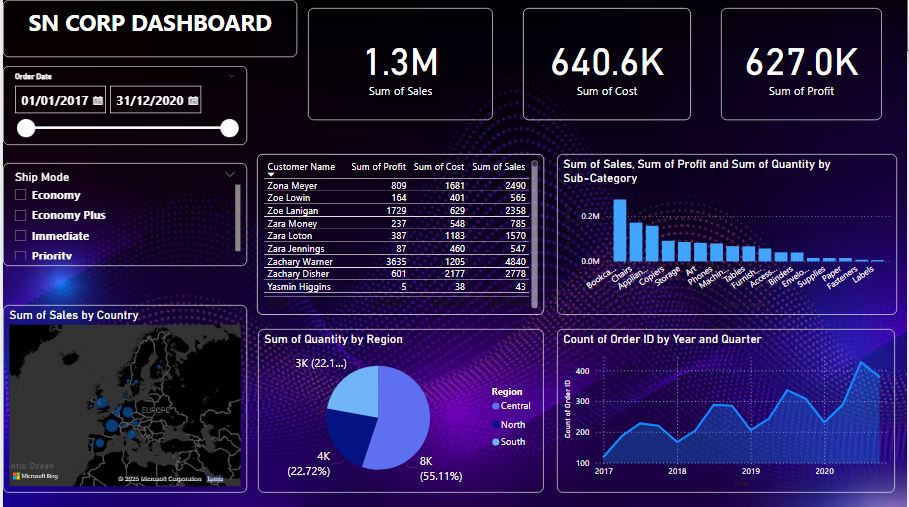

What the dashboard file says about the page in this screenshot:
{"tool":"powerbi","page":{"name":"Page 1","canvas":[1280,720],"ordinal":0},"visuals":[{"type":"card","fields":{"Values":["List of Orders.Sales"]},"box":[432.3,11.3,262.2,158.7],"z":0},{"type":"card","fields":{"Values":["List of Orders.Cost"]},"box":[737,11.3,238.1,158.7],"z":1000},{"type":"card","fields":{"Values":["List of Orders.Profit"]},"box":[1017.6,11.3,228.2,158.7],"z":2000},{"type":"tableEx","fields":{"Values":["List of Orders.Customer Name","List of Orders.Profit","List of Orders.Cost","List of Orders.Sales"]},"box":[360,218.3,406.8,228.2],"z":3000},{"type":"clusteredColumnChart","fields":{"Category":["List of Orders.Sub-Category"],"Y":["List of Orders.Sales"]},"box":[785.2,218.3,481.9,228.2],"z":4000},{"type":"lineChart","fields":{"Y":["List of Orders.Order ID"],"Category":["List of Orders.Order Date.Variation.Date Hierarchy.Year","List of Orders.Order Date.Variation.Date Hierarchy.Quarter"]},"box":[785.2,466.3,479.1,232.4],"z":5000},{"type":"pieChart","fields":{"Y":["List of Orders.Quantity"],"Category":["List of Orders.Region"]},"box":[361.4,466.3,405.4,232.4],"z":6000},{"type":"map","fields":{"Category":["List of Orders.Country"],"Size":["List of Orders.Sales"]},"box":[0,432.3,345.8,266.5],"z":7000},{"type":"textbox","box":[0,0,416.7,80.8],"z":8000},{"type":"slicer","fields":{"Values":["List of Orders.Ship Mode"]},"box":[0,231,345.8,146],"z":9000},{"type":"slicer","fields":{"Values":["List of Orders.Order Date"]},"box":[0,93.5,345.8,112],"z":10000}]}

Visuals, with their boxes in screenshot pixels (x1, y1, x2, y2), scaled from the page's 1280x720 canvas onto the 909x507 screenshot:
card - List of Orders.Sales: locate(307, 8, 493, 120)
card - List of Orders.Cost: locate(523, 8, 692, 120)
card - List of Orders.Profit: locate(723, 8, 885, 120)
tableEx - List of Orders.Customer Name x List of Orders.Profit: locate(256, 154, 545, 314)
clusteredColumnChart - List of Orders.Sub-Category x List of Orders.Sales: locate(558, 154, 900, 314)
lineChart - List of Orders.Order ID x List of Orders.Order Date.Variation.Date Hierarchy.Year: locate(558, 328, 898, 492)
pieChart - List of Orders.Quantity x List of Orders.Region: locate(257, 328, 545, 492)
map - List of Orders.Country x List of Orders.Sales: locate(0, 304, 246, 492)
textbox: locate(0, 0, 296, 57)
slicer - List of Orders.Ship Mode: locate(0, 163, 246, 265)
slicer - List of Orders.Order Date: locate(0, 66, 246, 145)
